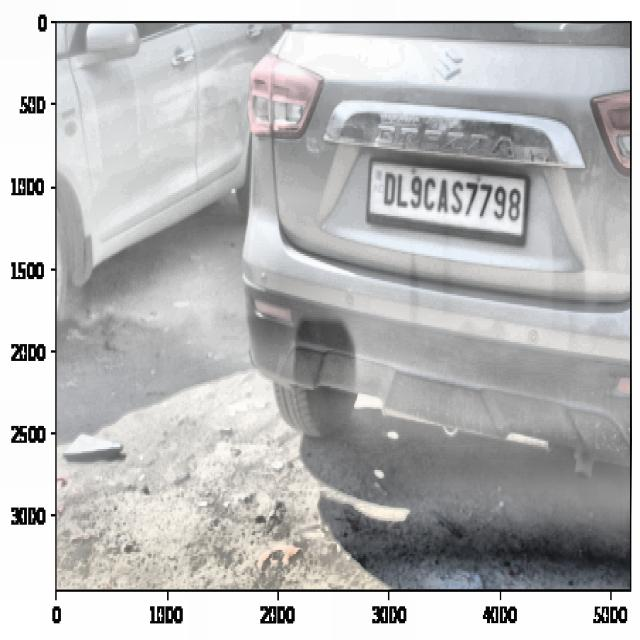license_plate: (375, 166, 526, 230)
